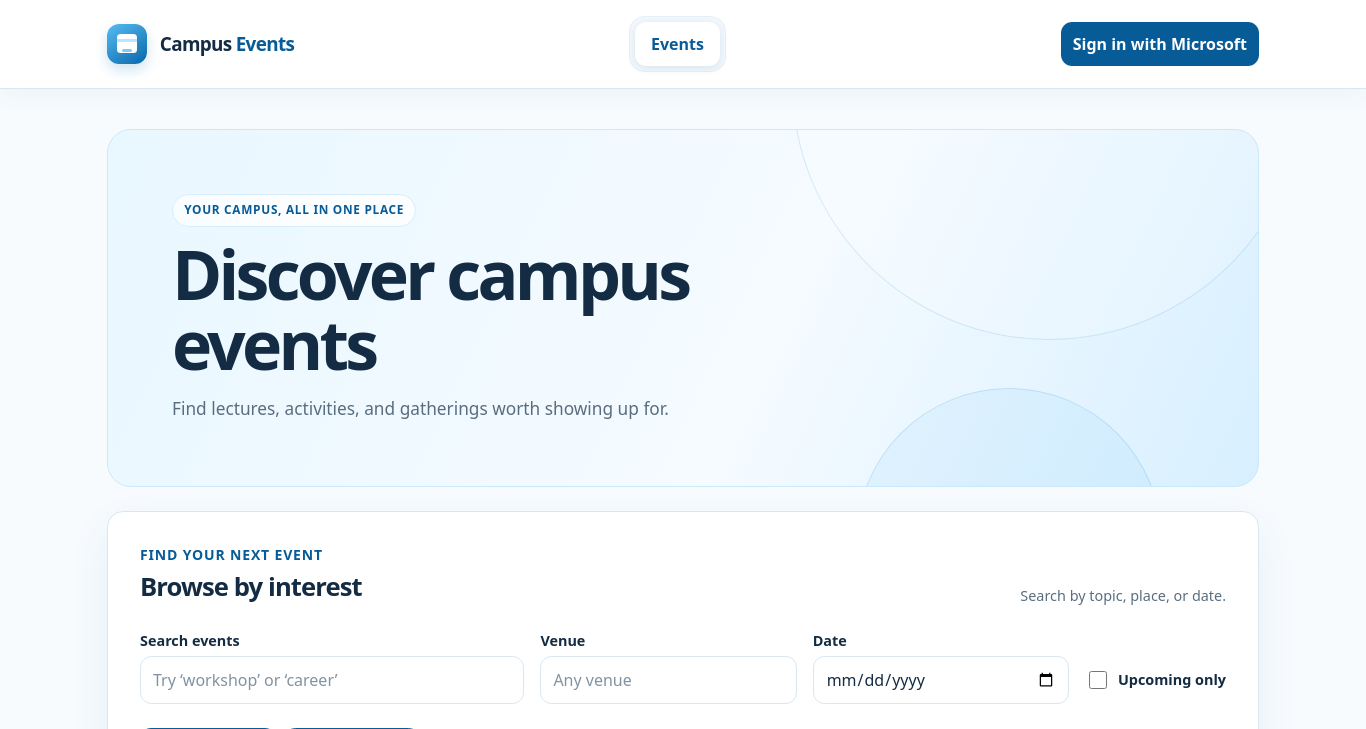
AuthProvider › starts the Microsoft sign-in flow in the current tab
Click the button "Sign in with Microsoft" at coordinates (1160, 44), box [1061,22,1259,66]
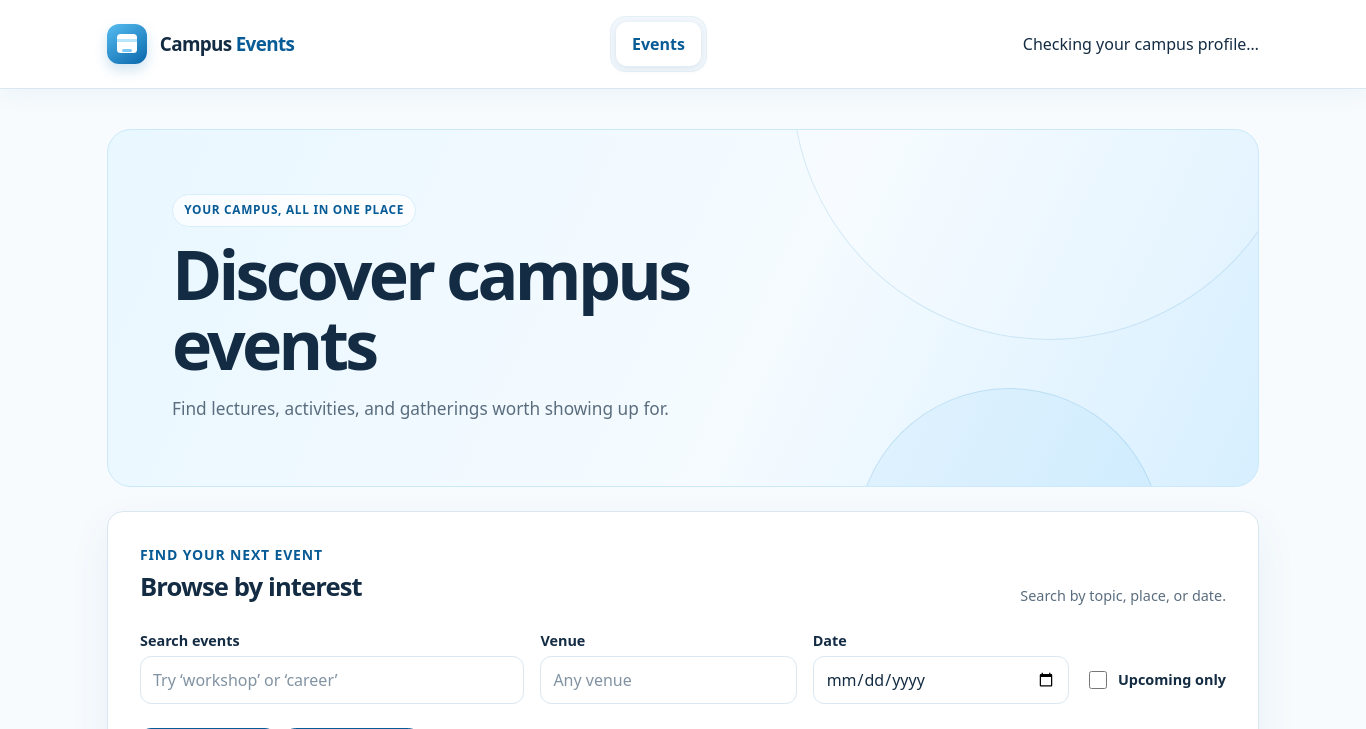
Check: the text "Checking your campus profile…" is shown, box [1023,32,1259,56]
